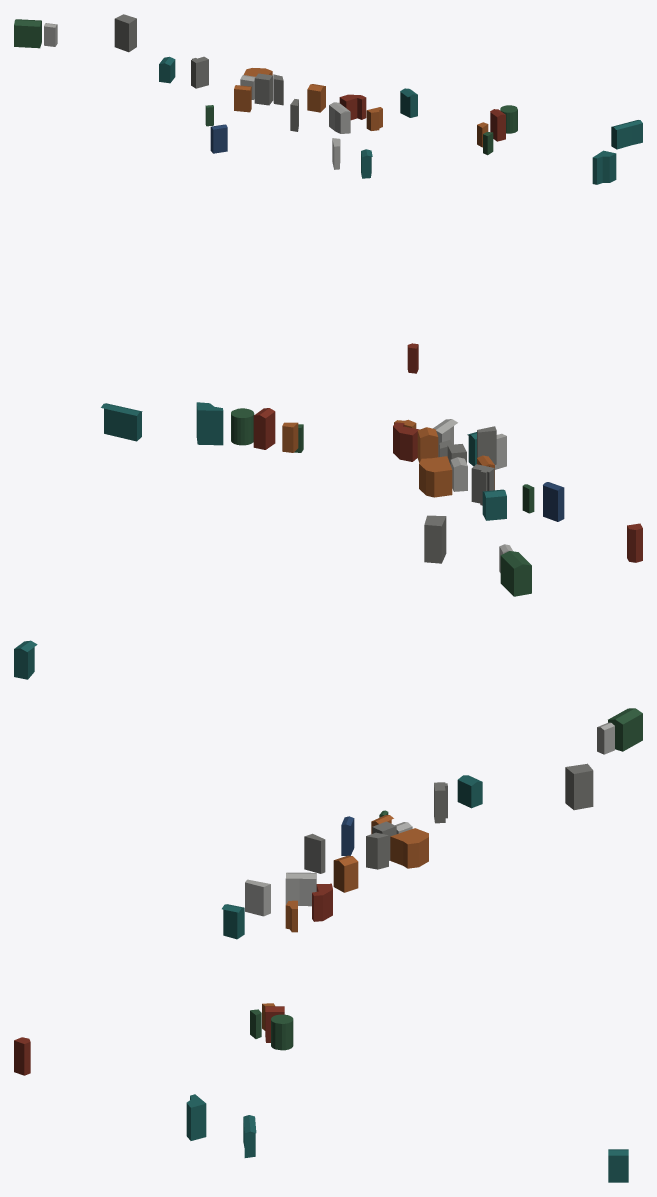
Rendered from near-16-54729-29727.67d522f8.glb.
3 views of the same model, one above another, from view 1: azimuth 30°, elevation 25°; view 2: azimuth 150°, elevation 25°; view 3: azimuth 270°, elevation 25° (orthographic). The views are drawn at different scales.
Size of the model in its own units: 457 by 194 by 413.
